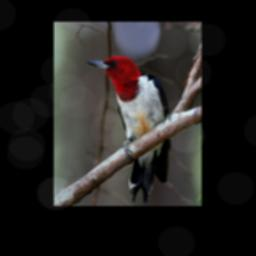Woodpecker: (86, 55, 171, 205)
